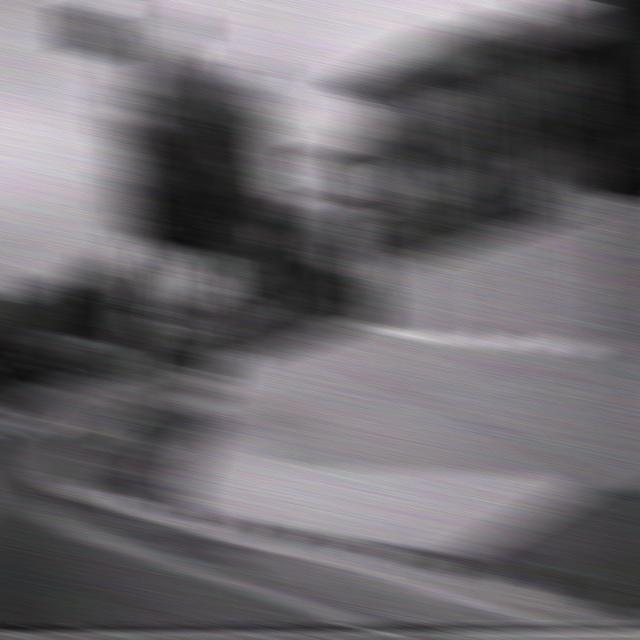pedestrianCrossing: (148, 248, 198, 311)
